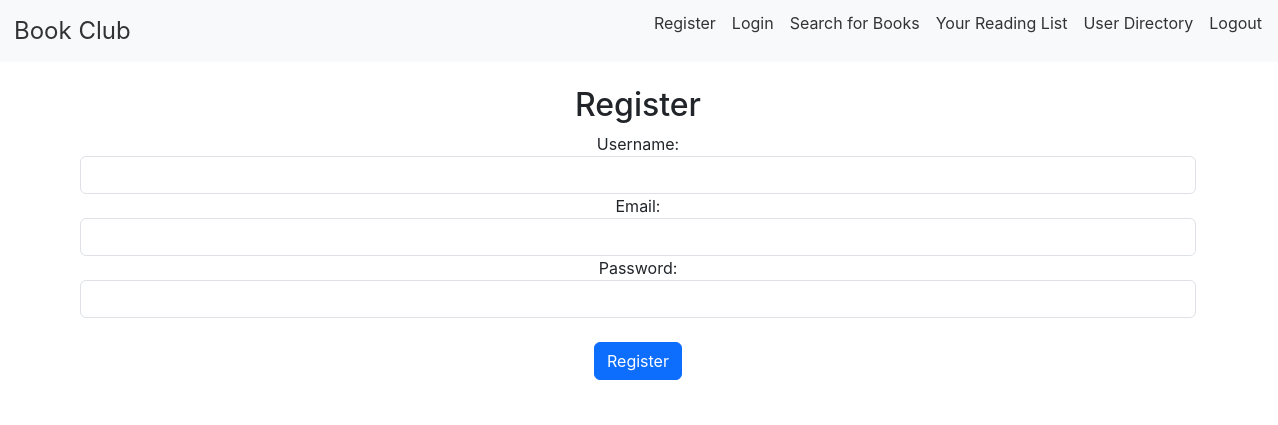
it: Registration Form › should display error message when registration fails
Step 1. Type "testuser" into the field with id "username" → (638, 175), box 80,156 -> 1196,194
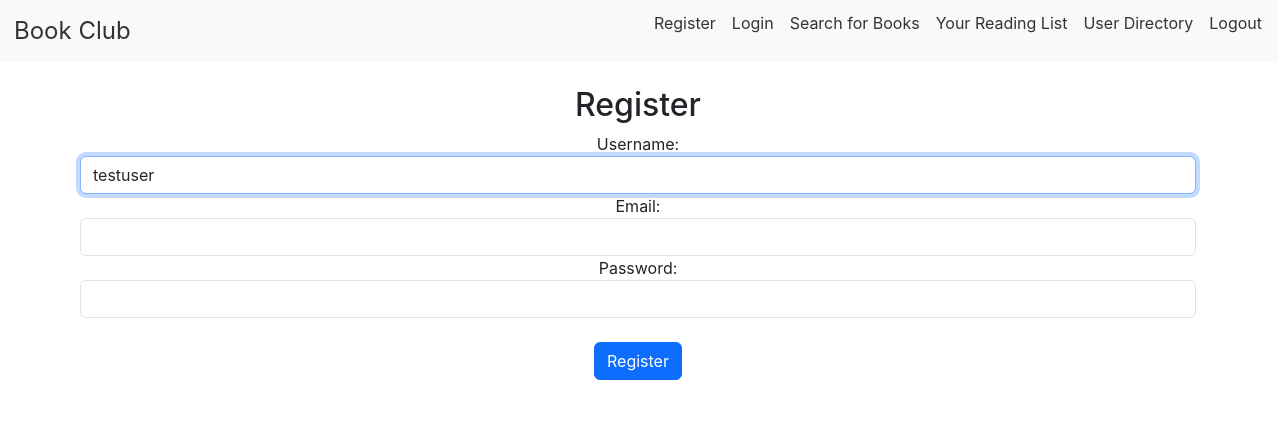
Step 2. Type "testuser@example.com" into the field with id "email" → (638, 237), box 80,218 -> 1196,256
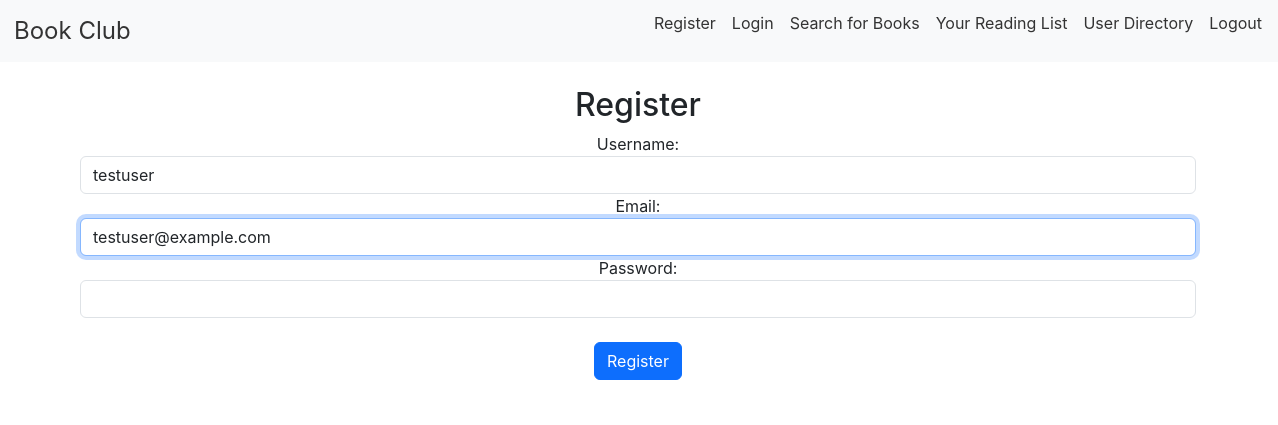
Step 3. Type "password123" into the password field labelled "Password:" → (638, 299), box 80,280 -> 1196,318
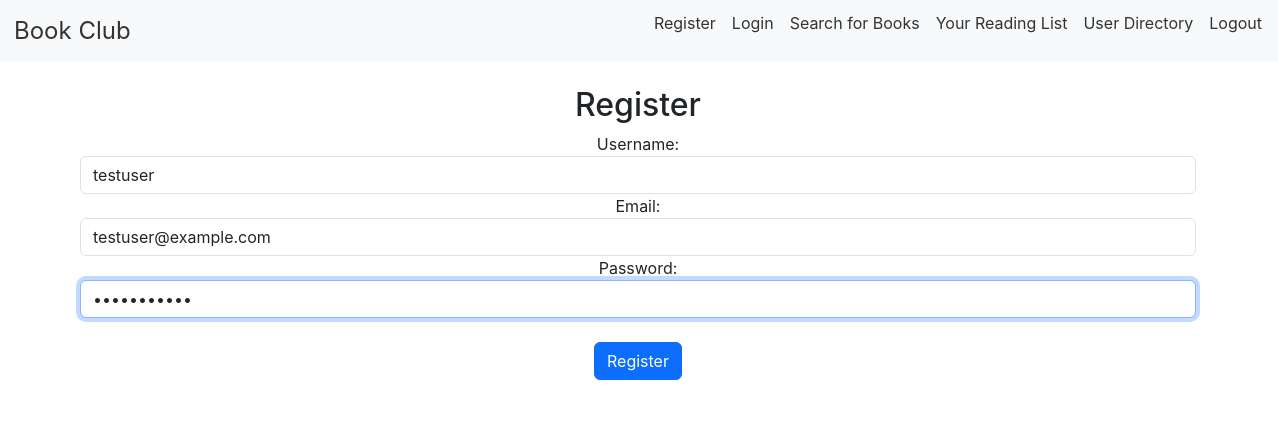
Step 4. Click the submit button → (638, 361), box 594,342 -> 682,380
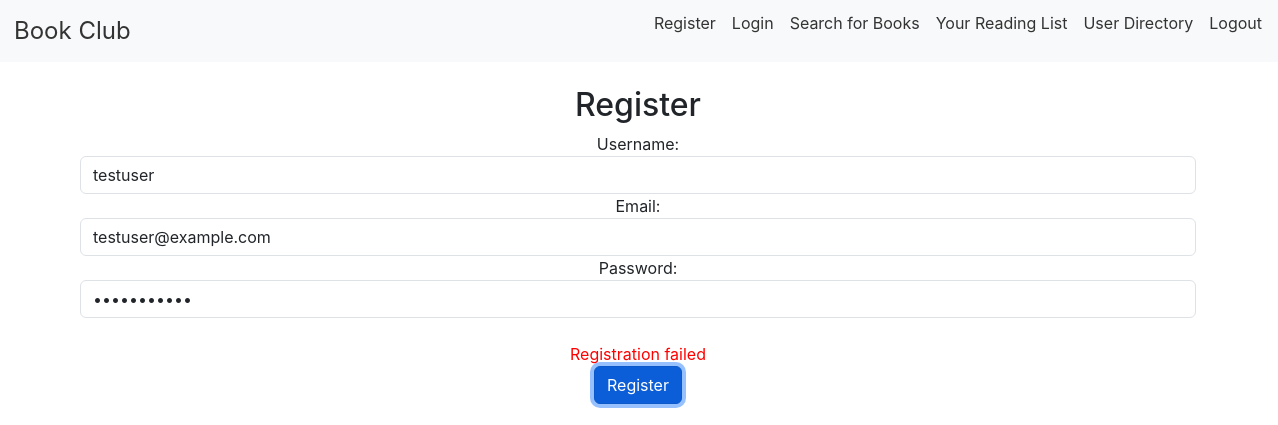
Result: the text with class "error-message" reads "Registration failed" at 570,344 -> 706,364
